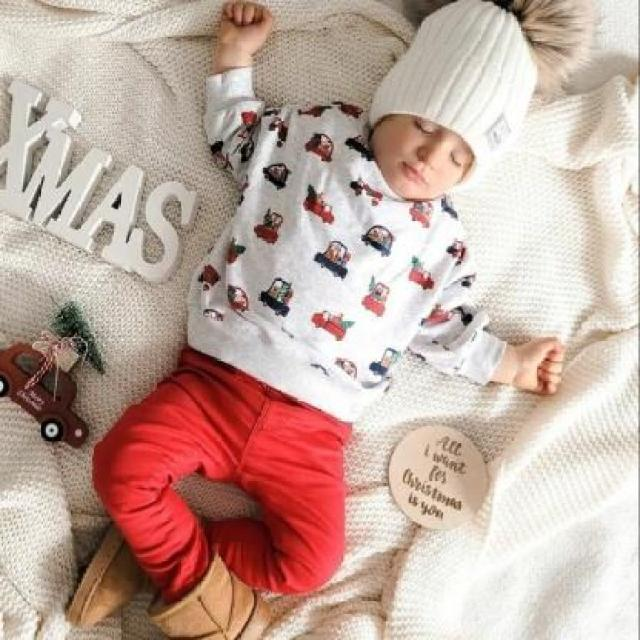baby: (90, 0, 564, 638)
